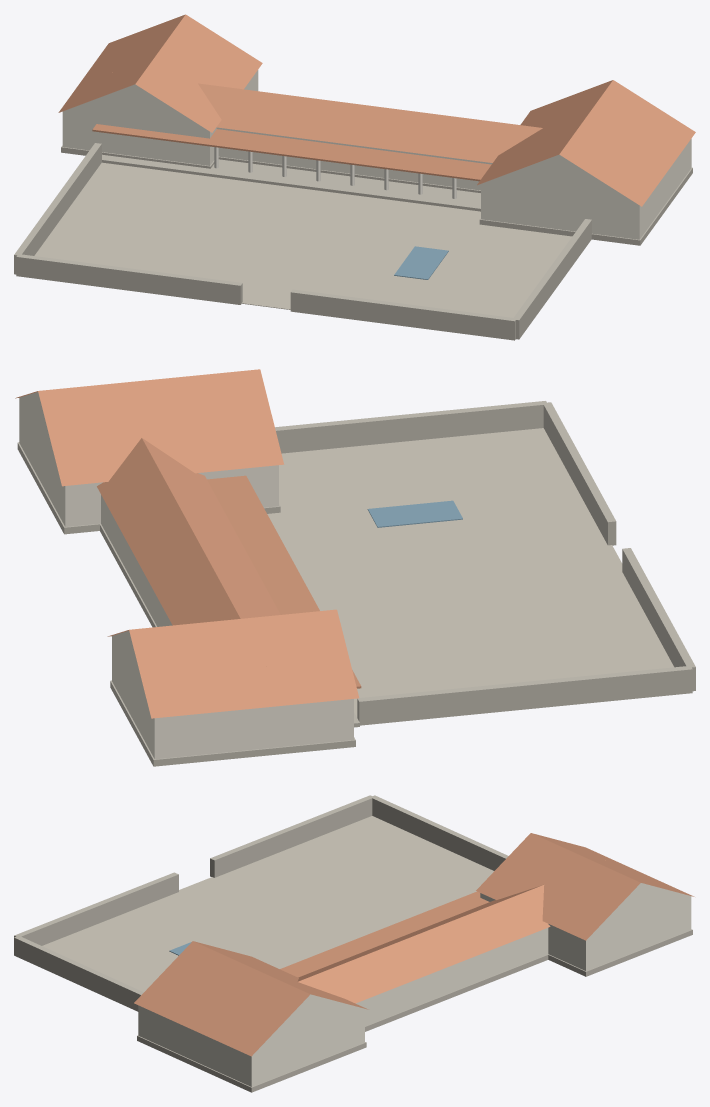
Rendered from villa.glb.
3 views of the same model, one above another, from view 1: azimuth 30°, elevation 25°; view 2: azimuth 150°, elevation 25°; view 3: azimuth 270°, elevation 25° (orthographic). The views are drawn at different scales.
Parts seen in each view (by area): view 1: villa; view 2: villa; view 3: villa.
Boxes of the visible parts, x1,y1,x2,y2 form: villa: (14,14,695,340); villa: (15,369,695,766); villa: (14,795,694,1092).
Size of the model in its own units: 60.05 by 7.62 by 61.64.
